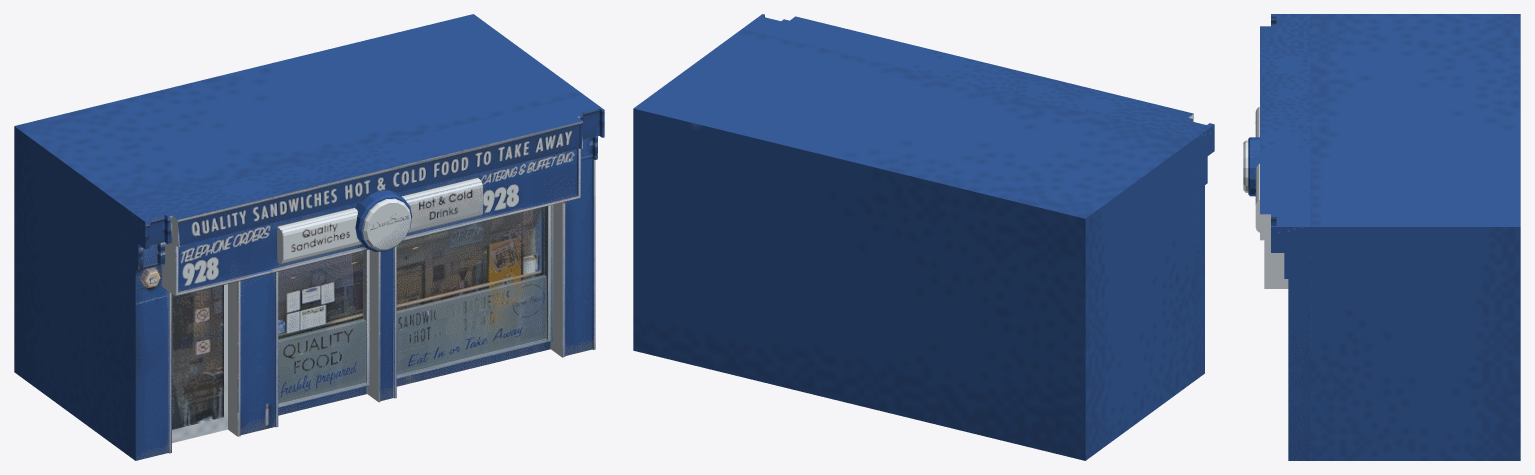
File: store1.fbx
3 renders of one model, left to right at view 1: azimuth 30°, elevation 25°; view 2: azimuth 150°, elevation 25°; view 3: azimuth 270°, elevation 25°, orthographic. The views are drawn at different scales.
Visible parts, largest first — view 1: Store1; view 2: Store1; view 3: Store1.
Boxes of the visible parts, left/top/right/bottom form: Store1: left=14, top=14, right=604, bottom=460; Store1: left=633, top=14, right=1214, bottom=460; Store1: left=1243, top=14, right=1520, bottom=460.
Size of the model in its own units: 1196 by 612 by 657.
